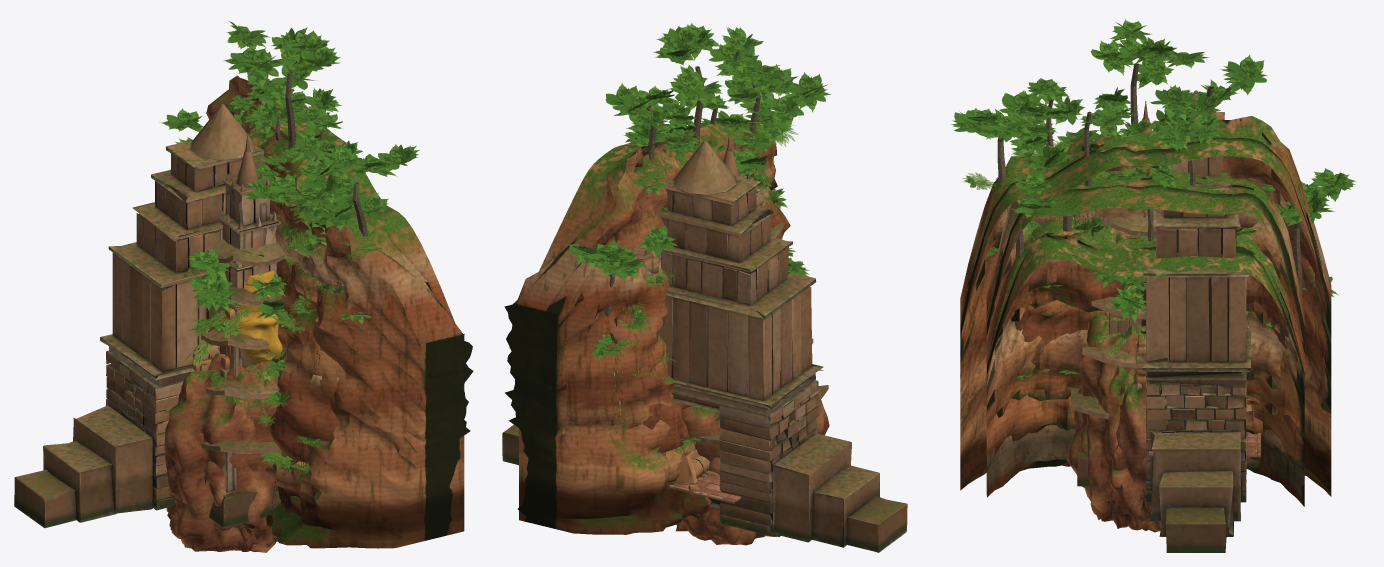
File: kit.high.glb
3 renders of one model, left to right at view 1: azimuth 30°, elevation 25°; view 2: azimuth 150°, elevation 25°; view 3: azimuth 270°, elevation 25°, orthographic. The views are drawn at different scales.
Parts seen in each view (by area): view 1: cliff_wall_2, face_gate_0, cliff_wall_2_veg, rock_big_0, cliff_wall_1, temple_1, cliff_wall_1_veg, rock_big_2, temple_0, cliff_wall_0_veg, tree_big_1_crown, face_gate_0_gold (+4 smaller); view 2: cliff_wall_2, face_gate_0, cliff_wall_2_veg, cliff_wall_1_veg, cliff_wall_0_veg, cliff_wall_1, rock_big_1, cliff_wall_2_trees, rock_big_0, rock_big_2, floor_wide_0, column_fallen_0 (+1 smaller); view 3: face_gate_0, cliff_wall_0, cliff_wall_2, cliff_wall_1, cliff_wall_2_veg, rock_big_1, cliff_wall_0_veg, cliff_wall_1_veg, rock_big_2, temple_1, rock_big_0, cliff_wall_2_trees (+2 smaller).
Boxes of the visible parts, box(x1,y1,x2,y2) form: cliff_wall_2: box(206, 75, 473, 548); face_gate_0: box(14, 104, 264, 528); cliff_wall_2_veg: box(159, 21, 419, 527); rock_big_0: box(164, 361, 278, 552); cliff_wall_1: box(269, 196, 348, 515); temple_1: box(201, 239, 285, 527); cliff_wall_1_veg: box(228, 84, 342, 431); rock_big_2: box(175, 353, 276, 551); temple_0: box(217, 133, 280, 510); cliff_wall_0_veg: box(245, 164, 388, 473); tree_big_1_crown: box(180, 248, 288, 318); face_gate_0_gold: box(221, 270, 282, 363); cliff_wall_2: box(504, 123, 790, 534); face_gate_0: box(502, 140, 907, 552); cliff_wall_2_veg: box(567, 22, 831, 433); cliff_wall_1_veg: box(624, 64, 773, 252); cliff_wall_0_veg: box(623, 92, 791, 447); cliff_wall_1: box(642, 165, 769, 452); rock_big_1: box(676, 406, 780, 545); cliff_wall_2_trees: box(604, 66, 767, 316); rock_big_0: box(682, 397, 829, 536); rock_big_2: box(695, 412, 742, 544); floor_wide_0: box(669, 471, 740, 503); column_fallen_0: box(674, 452, 709, 484); face_gate_0: box(1141, 90, 1250, 552); cliff_wall_0: box(987, 218, 1304, 506); cliff_wall_2: box(960, 116, 1331, 496); cliff_wall_1: box(986, 167, 1304, 495); cliff_wall_2_veg: box(951, 19, 1356, 297); rock_big_1: box(1074, 311, 1161, 530); cliff_wall_0_veg: box(985, 123, 1272, 400); cliff_wall_1_veg: box(1052, 86, 1230, 224); rock_big_2: box(1067, 365, 1175, 530); temple_1: box(1071, 216, 1155, 486); rock_big_0: box(1073, 316, 1159, 532); cliff_wall_2_trees: box(997, 63, 1302, 294).
Size of the model in its own units: 31.22 by 38.53 by 30.14.
Materials: 12 (12 with a texture image).
